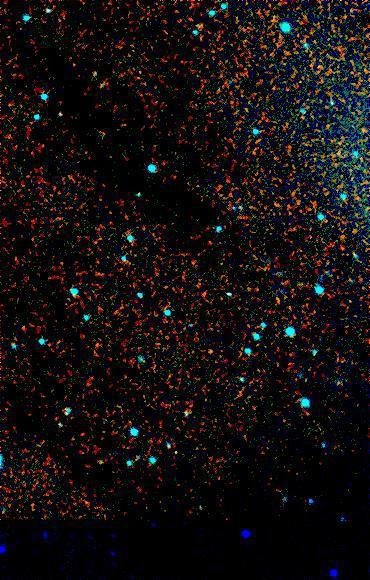star: (196, 335, 226, 365)
